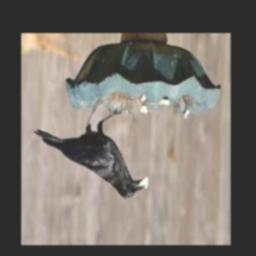Crow: (33, 101, 148, 200)
